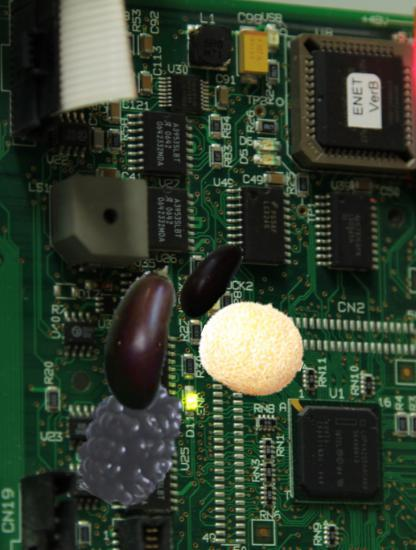Cantaloupe: (200, 294, 306, 400)
Eggplant: (67, 265, 216, 414), (166, 234, 257, 325)
Mulberry: (66, 375, 198, 507)
